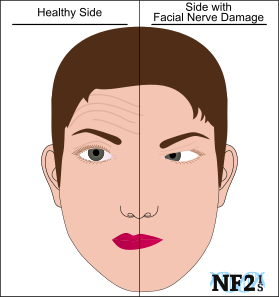stroke: (66, 104, 193, 278)
